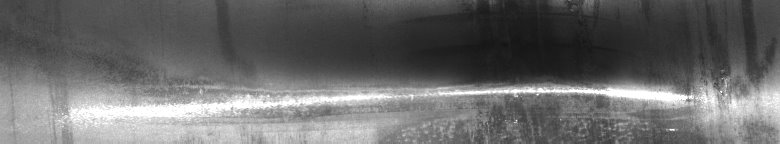ke: (205, 5, 728, 136)
